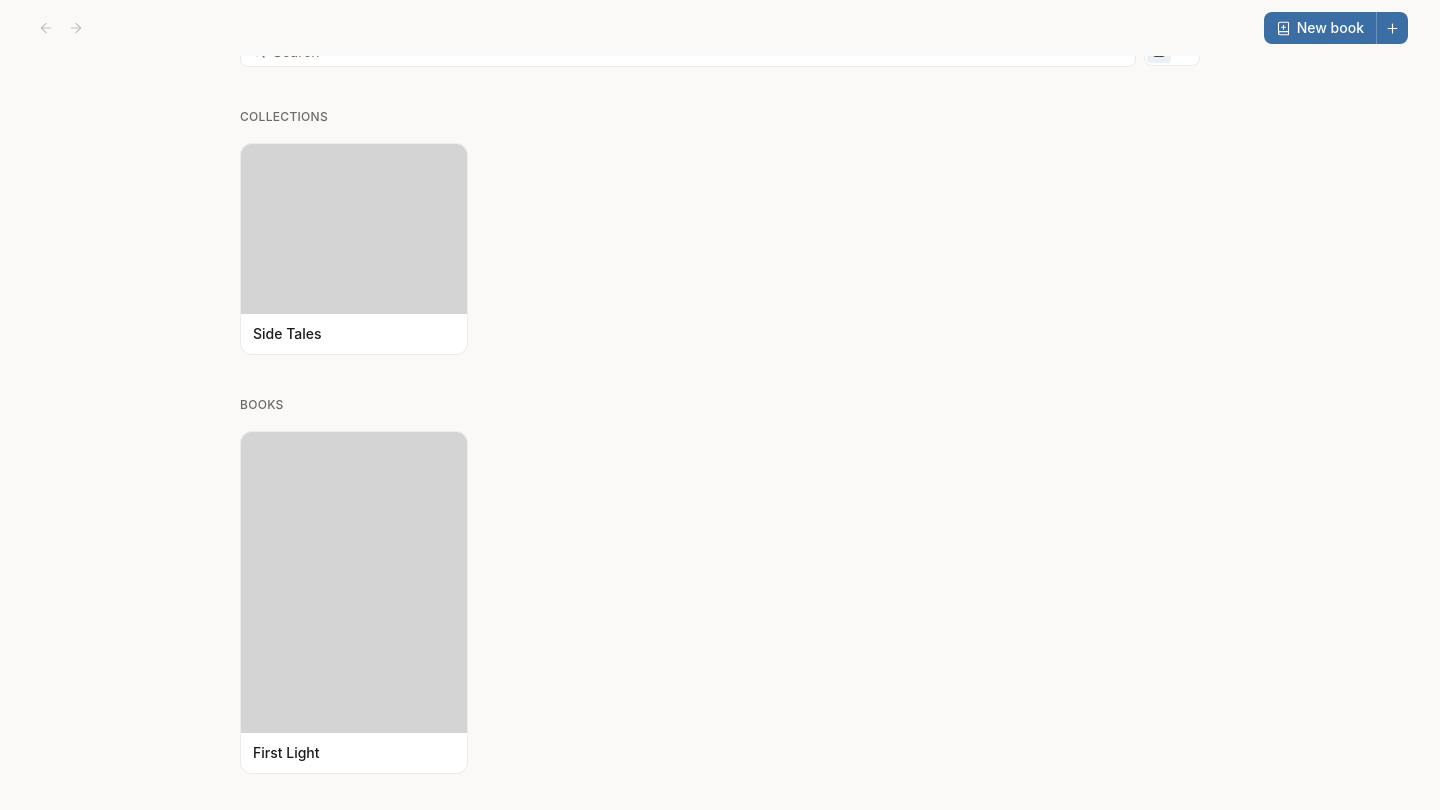
Scenario: CollectionPage › does not patch when clearing an already-default section label
(page scrolled)
Clear the text box named "Books section name" at (720, 404), box [240,396,1200,412]
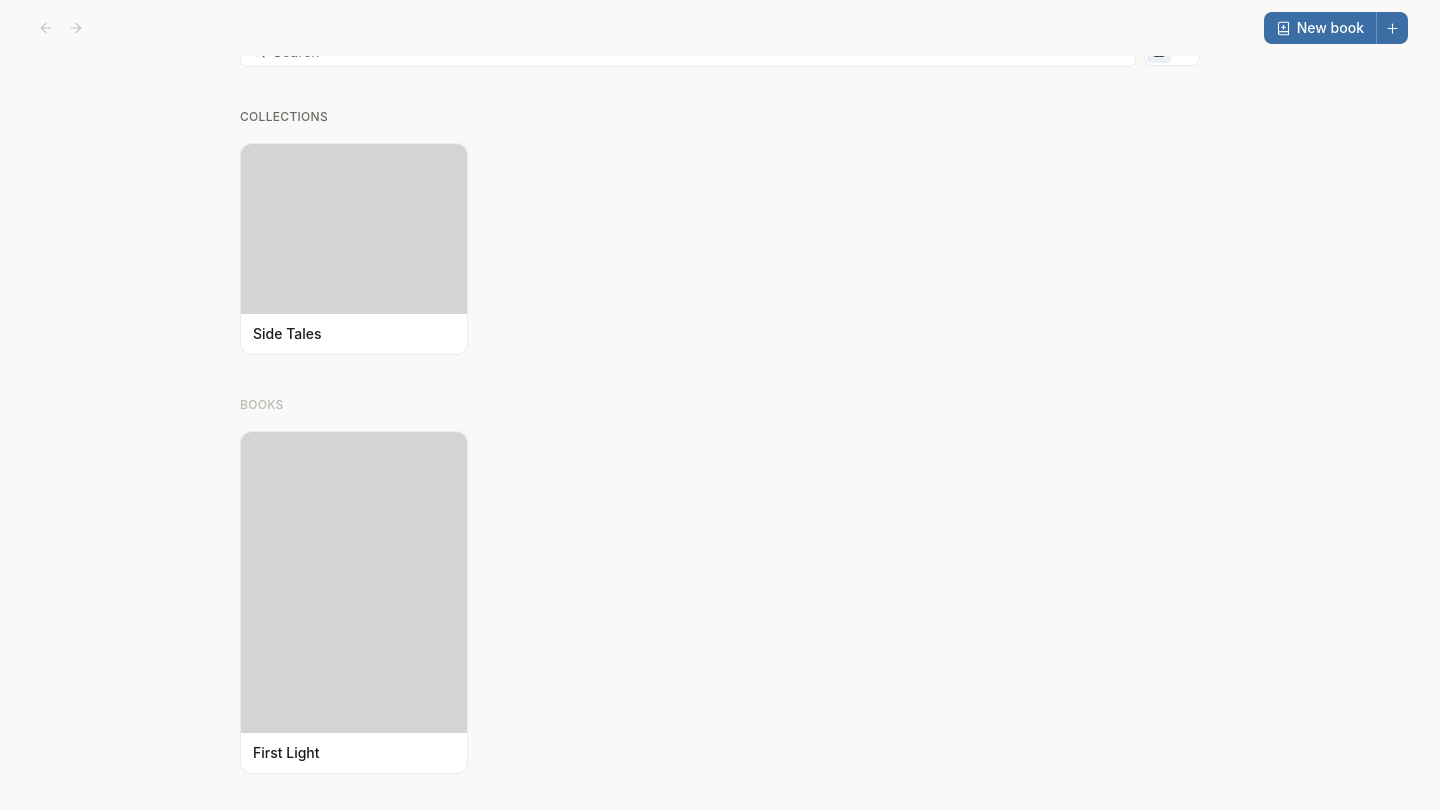
Press Tab
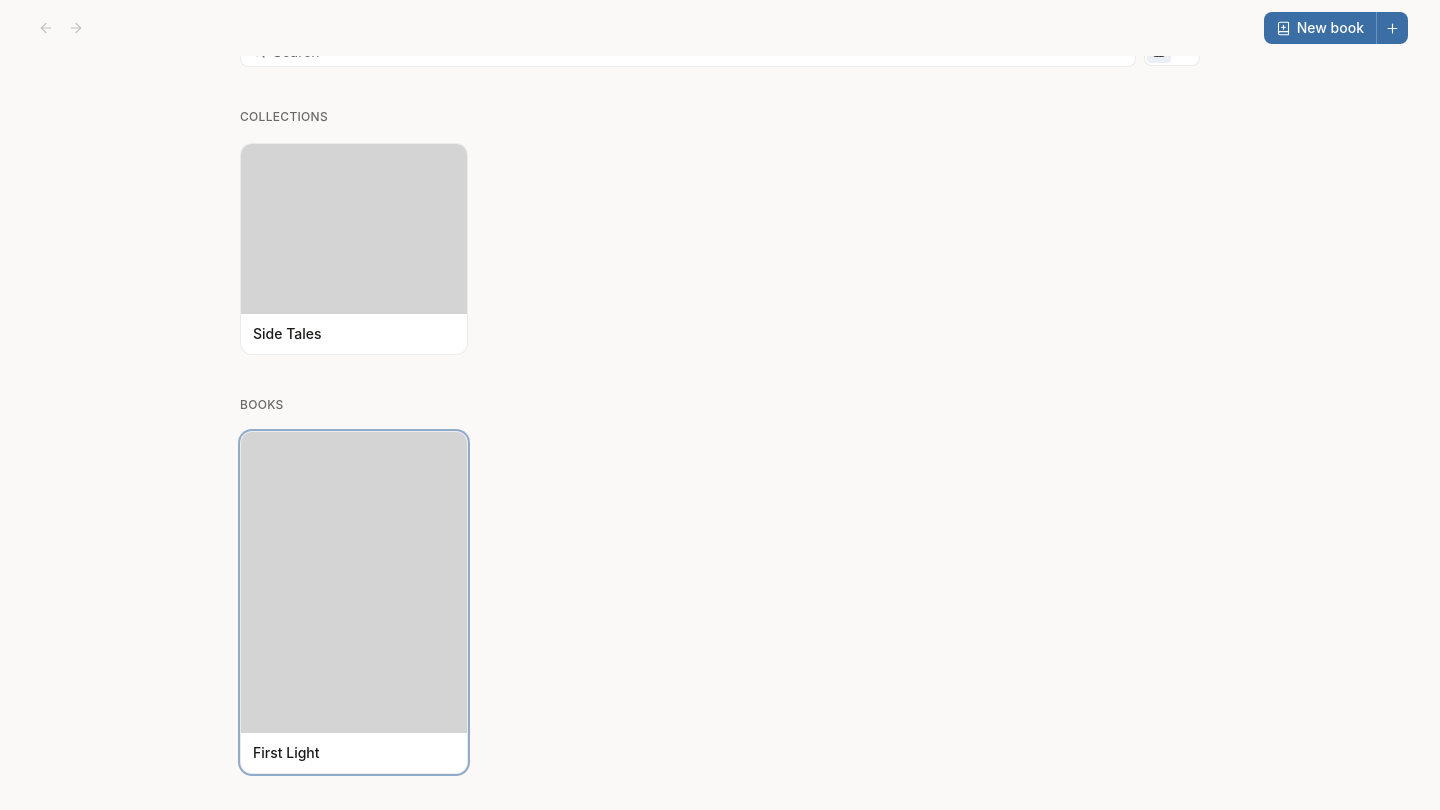
Check: the text box named "Books section name" holds "Books", box [240,396,1200,412]
